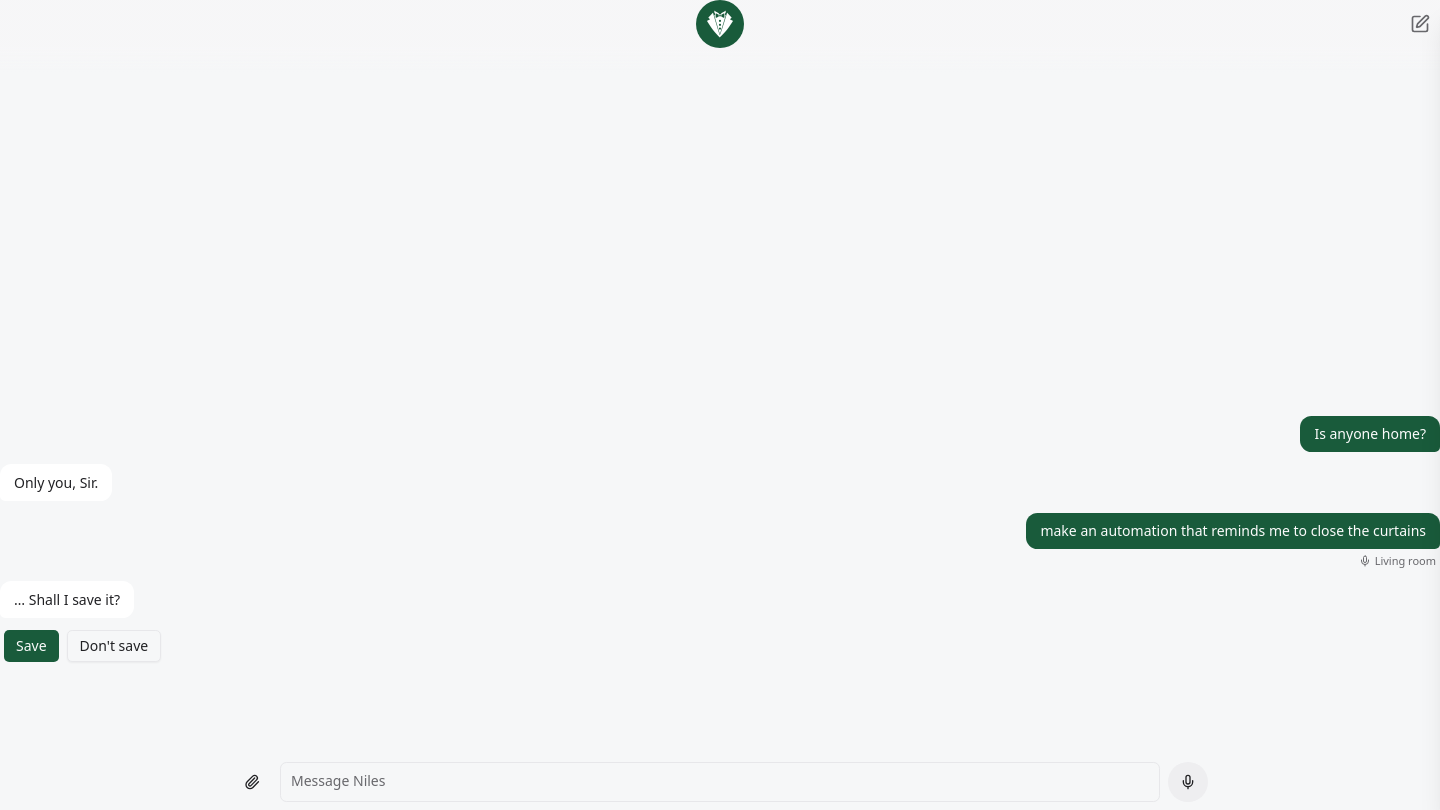
Test: ChatPage › lists past conversations, marking the spoken ones
The width and height of the screenshot is (1440, 810).
Click the button named "Open Niles": click(720, 24) [696,0,744,48]
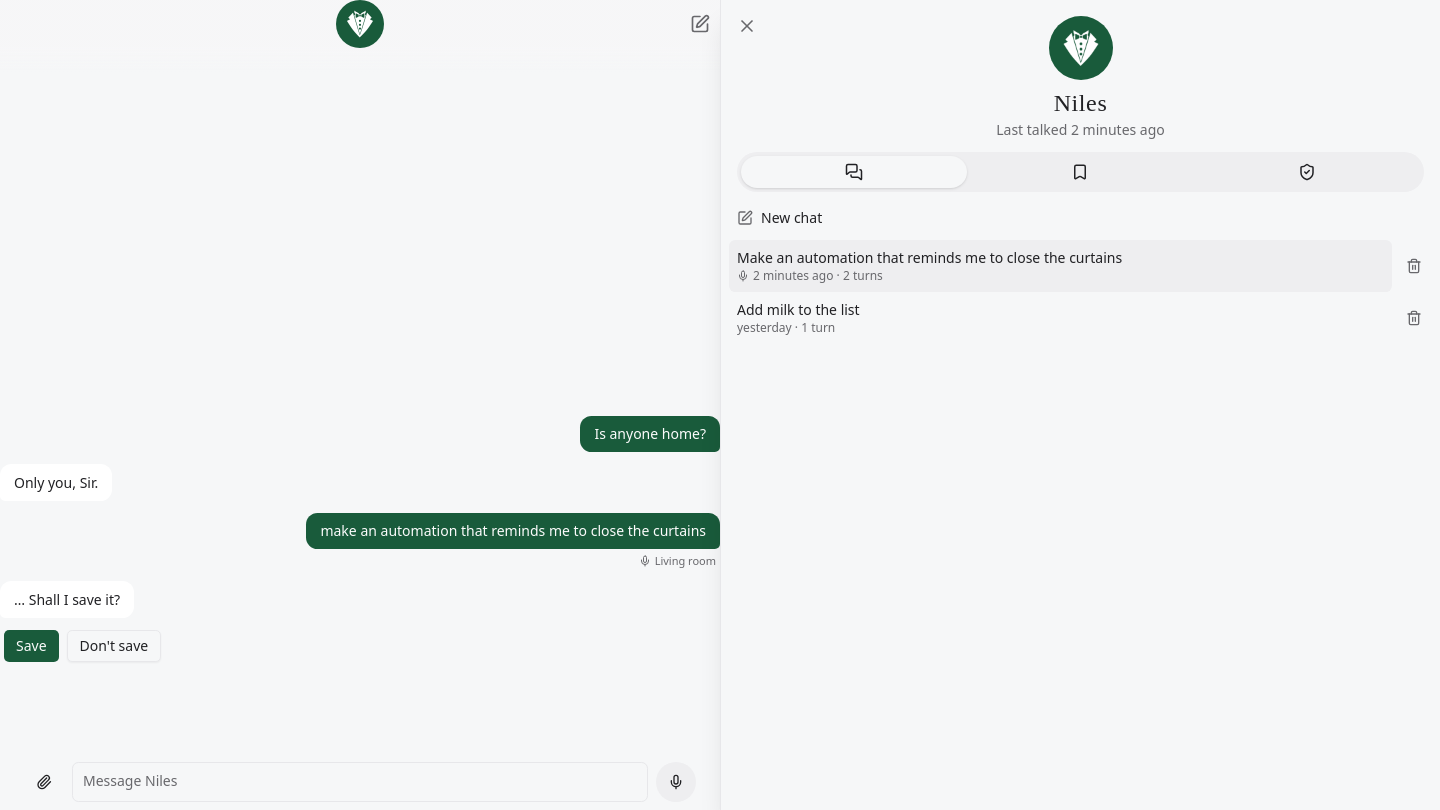
Expected: the text "Make an automation that reminds me to close the curtains" is shown, [737,248,1122,267]
Expected: the picture named "Said to a satellite" is shown, [737,270,749,282]
Expected: the text "2 minutes ago · 2 turns" is shown, [737,267,883,284]
